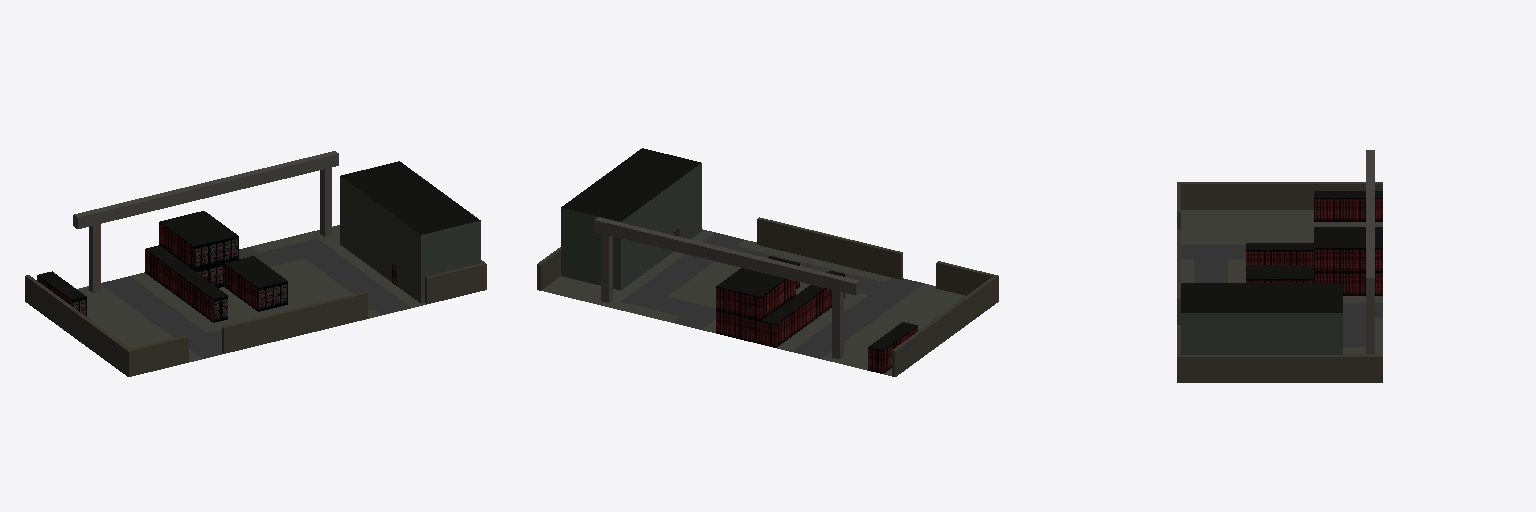
The picture shows the model from 3 angles: view 1: azimuth 30°, elevation 25°; view 2: azimuth 150°, elevation 25°; view 3: azimuth 270°, elevation 25°; orthographic projection.
Visible parts, largest first — view 1: port1; view 2: port1; view 3: port1.
Boxes of the visible parts, x1,y1,x2,y2 form: port1: [25, 151, 486, 376]; port1: [537, 148, 998, 376]; port1: [1177, 150, 1382, 382].
Size of the model in its own units: 96 by 20.35 by 48.
Materials: 9 (3 with a texture image).